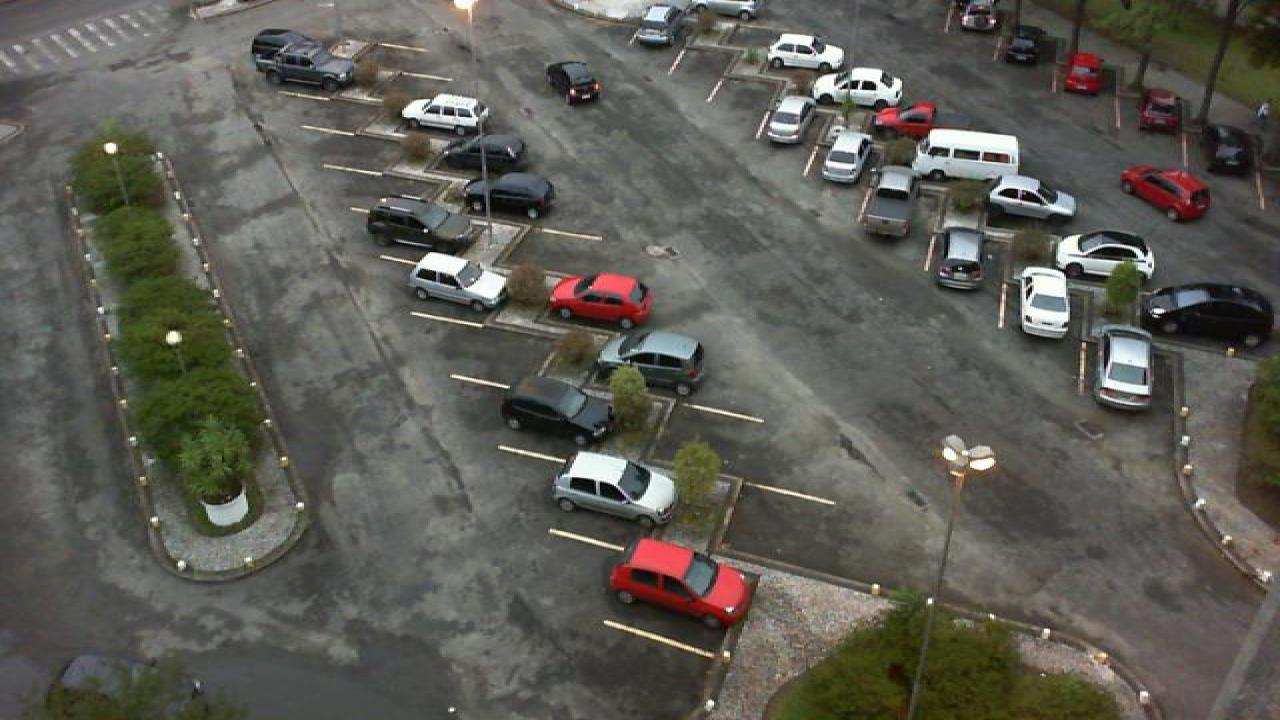Car: (608, 538, 756, 629), (550, 450, 678, 529), (1138, 281, 1276, 340), (502, 377, 618, 445), (596, 328, 704, 395), (364, 192, 480, 252), (404, 251, 510, 314), (546, 271, 654, 329), (914, 128, 1022, 184), (1118, 165, 1214, 223), (1050, 227, 1156, 279), (1092, 328, 1156, 413), (458, 171, 556, 219), (256, 44, 356, 90), (398, 92, 492, 138), (810, 66, 904, 112), (984, 175, 1078, 221), (1016, 266, 1074, 340), (862, 166, 914, 238), (434, 134, 526, 174), (930, 228, 984, 292), (764, 33, 846, 74), (248, 27, 316, 70), (870, 101, 942, 141), (1206, 124, 1258, 176), (546, 60, 602, 108), (820, 130, 868, 184), (764, 96, 812, 144), (632, 4, 684, 48), (1138, 89, 1182, 134), (1062, 52, 1102, 96), (1002, 24, 1042, 65), (958, 0, 1000, 32), (690, 0, 758, 19)
